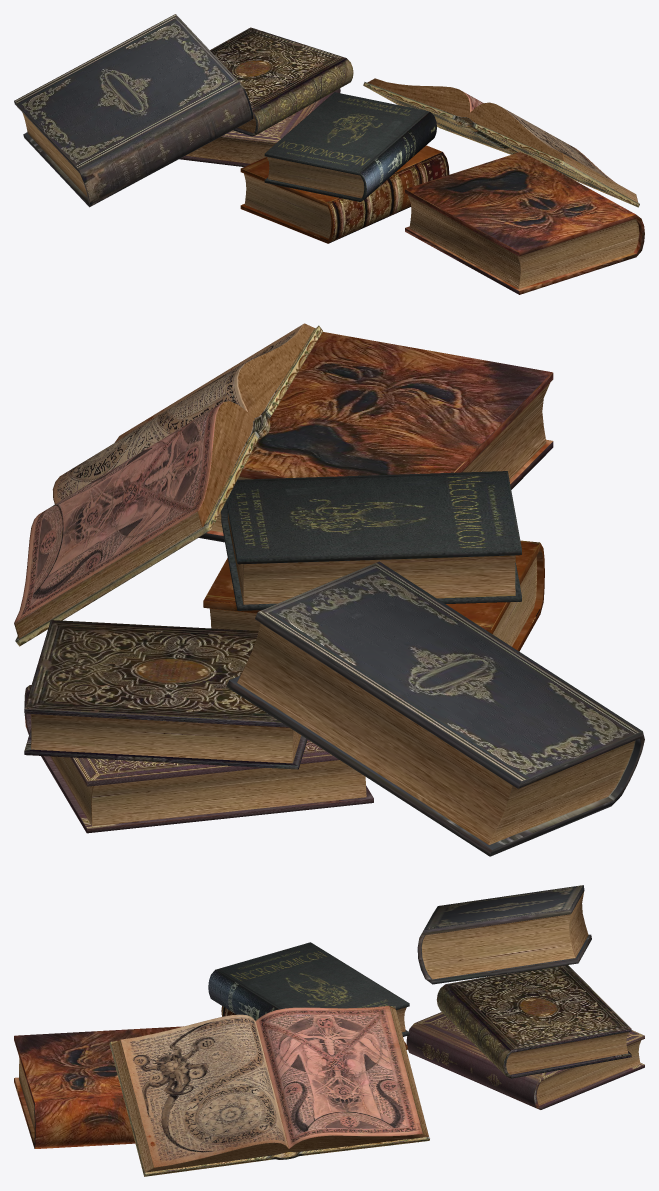
The model's file is coti_occult_books.glb.
The picture shows the model from 3 angles, top to bottom: view 1: azimuth 30°, elevation 25°; view 2: azimuth 150°, elevation 25°; view 3: azimuth 270°, elevation 25°; orthographic projection. The views are drawn at different scales.
Visible parts, largest first — view 1: BezierCurve_cover_0; view 2: BezierCurve_cover_0; view 3: BezierCurve_cover_0.
Boxes of the visible parts, x1=… form: BezierCurve_cover_0: x1=14, y1=14, x2=644, y2=294; BezierCurve_cover_0: x1=14, y1=323, x2=644, y2=856; BezierCurve_cover_0: x1=14, y1=885, x2=644, y2=1176.
Size of the model in its own units: 0.4247 by 0.1111 by 0.5.
Materials: 17 (17 with a texture image).
